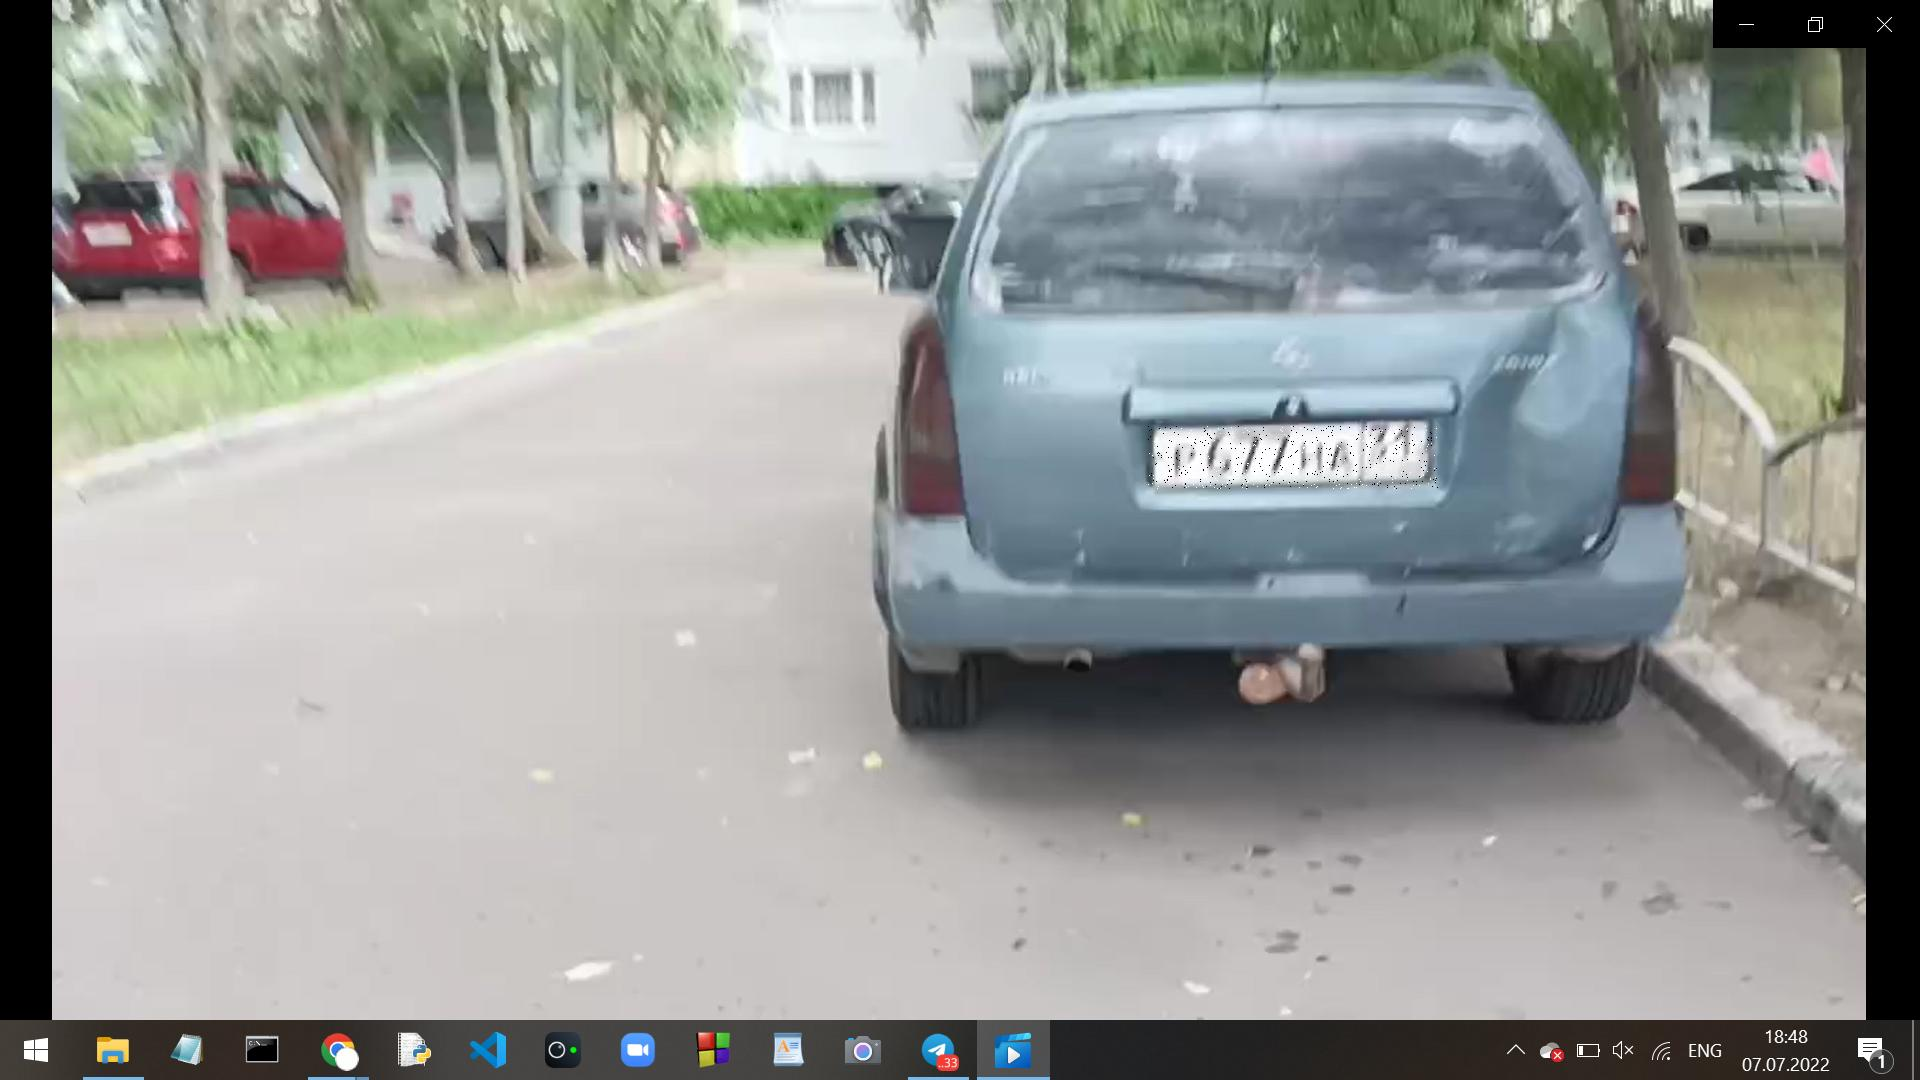plate: (1149, 427, 1439, 490)
